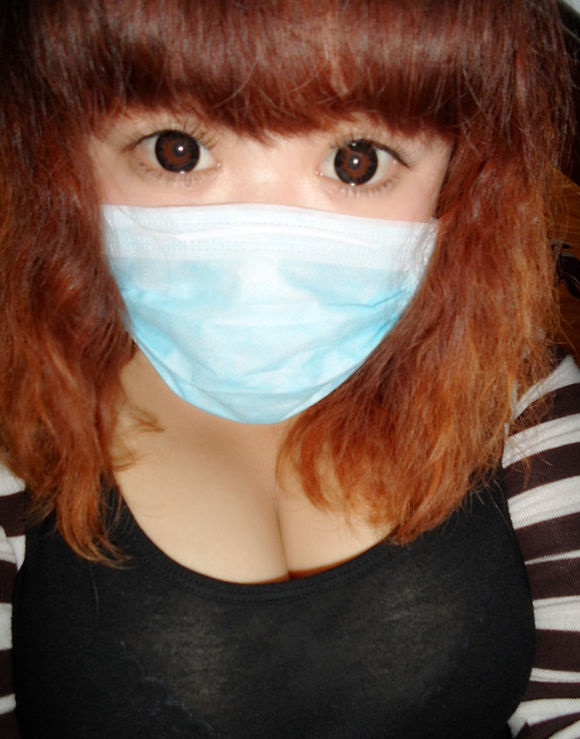face_mask: (96, 1, 449, 417)
